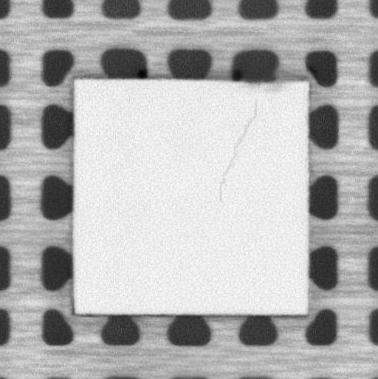DIE_CRACK: (217, 100, 258, 203)
